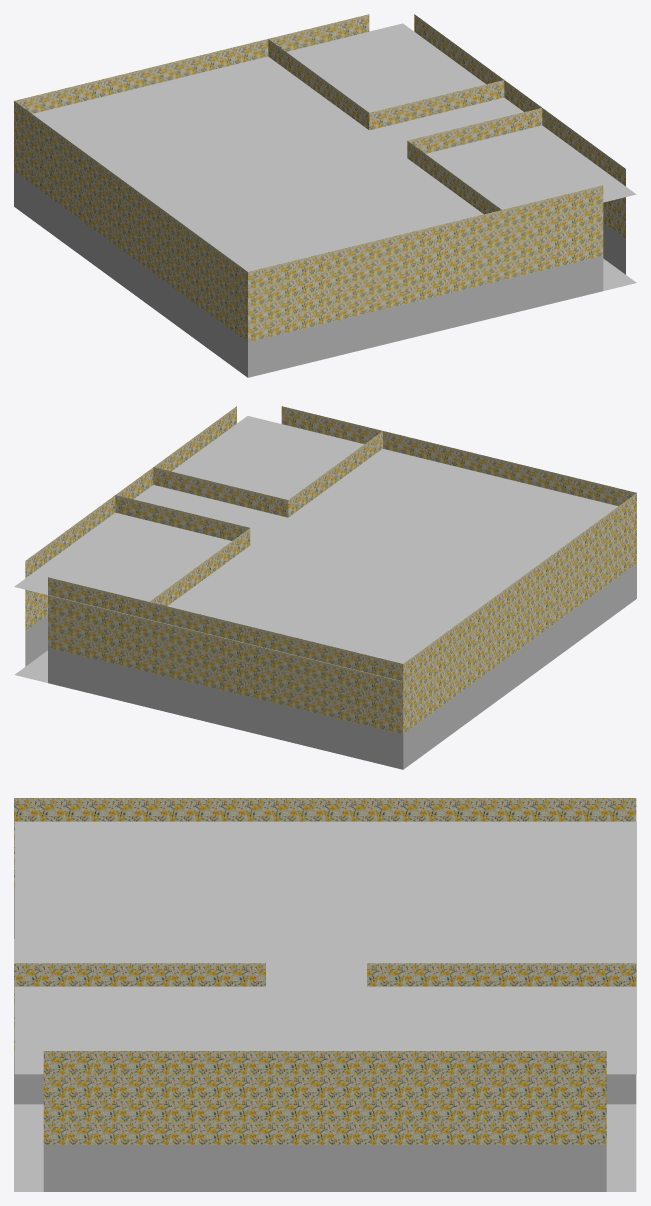
The picture shows the model from 3 angles, top to bottom: view 1: azimuth 30°, elevation 25°; view 2: azimuth 150°, elevation 25°; view 3: azimuth 270°, elevation 25°; orthographic projection. The views are drawn at different scales.
Visible parts, largest first — view 1: Floor001, Wall 003, Wall 008, Wooden Wall 004, Wooden Wall 001, Wall 002, Wall 001, Wall 007, Wall 006, Wall 004, Wall 005, Wooden Wall 002 (+1 smaller); view 2: Floor001, Wall 002, Wall 008, Wooden Wall 003, Wooden Wall 001, Wall 003, Wall 001, Wall 006, Wall 007, Wall 005, Wall 004, Wooden Wall 002 (+1 smaller); view 3: Floor001, Wall 001, Wooden Wall 002, Wall 008, Wall 004, Wall 005, Floor, Wooden Wall 005, Wooden Wall 006.
Part boxes in pixels (x1,y1,x2,y2): Floor001: (32,23,636,271); Wall 003: (248,185,603,342); Wall 008: (14,101,247,342); Wooden Wall 004: (248,256,603,377); Wooden Wall 001: (14,171,247,377); Wall 002: (14,14,369,113); Wall 001: (414,14,625,239); Wall 007: (369,80,504,130); Wall 006: (408,108,542,153); Wall 004: (268,39,369,129); Wall 005: (407,141,501,214); Wooden Wall 002: (603,223,625,274); Floor001: (14,416,617,681); Wall 002: (48,577,403,734); Wall 008: (403,493,636,733); Wooden Wall 003: (48,648,403,769); Wooden Wall 001: (403,564,636,769); Wall 003: (281,406,636,506); Wall 001: (25,406,236,631); Wall 006: (153,467,288,517); Wall 007: (115,495,249,540); Wall 005: (288,431,382,517); Wall 004: (149,528,250,606); Wooden Wall 002: (25,615,47,666); Floor001: (14,821,636,1074); Wall 001: (43,1051,606,1144); Wooden Wall 002: (43,1145,606,1191); Wall 008: (14,798,636,891); Wall 004: (367,963,636,986); Wall 005: (14,963,265,1057); Floor: (14,939,636,1191); Wooden Wall 005: (606,1074,636,1104); Wooden Wall 006: (14,1057,43,1104).
Bounding box in the file's own units: 1153 × 300 × 1201.
